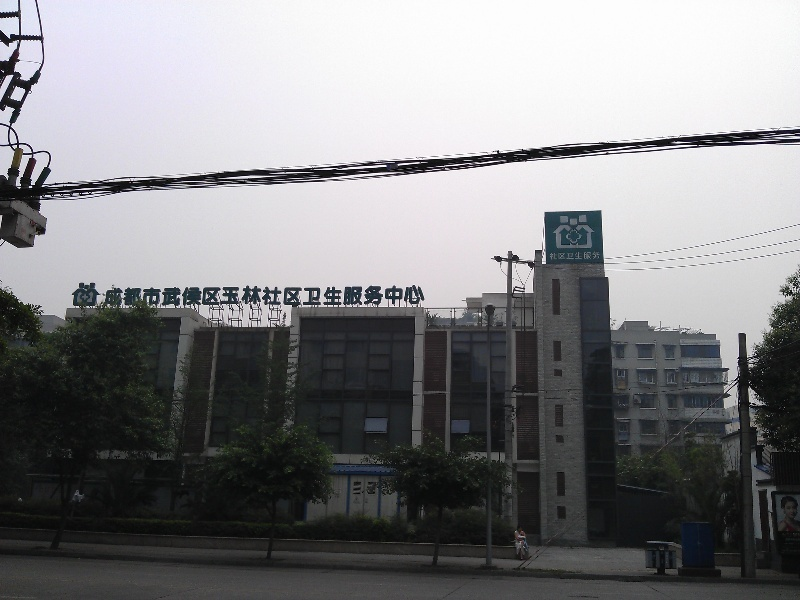text: (113, 285, 128, 308), (129, 285, 144, 308), (145, 285, 160, 308), (161, 285, 176, 308), (177, 285, 192, 308), (193, 285, 208, 308), (209, 285, 224, 308), (225, 285, 240, 308), (241, 285, 256, 308), (257, 285, 272, 308), (273, 285, 288, 308), (289, 285, 304, 308), (305, 285, 320, 308), (321, 285, 336, 308), (337, 285, 352, 308), (353, 285, 368, 308), (369, 285, 384, 308), (385, 285, 400, 308), (401, 285, 416, 308), (103, 285, 112, 308), (417, 285, 426, 308), (561, 252, 576, 261), (577, 252, 592, 261), (550, 252, 560, 261), (785, 533, 800, 538), (593, 252, 601, 261), (785, 538, 800, 542), (785, 543, 800, 546), (785, 550, 800, 553), (783, 533, 784, 538), (783, 550, 784, 553)
